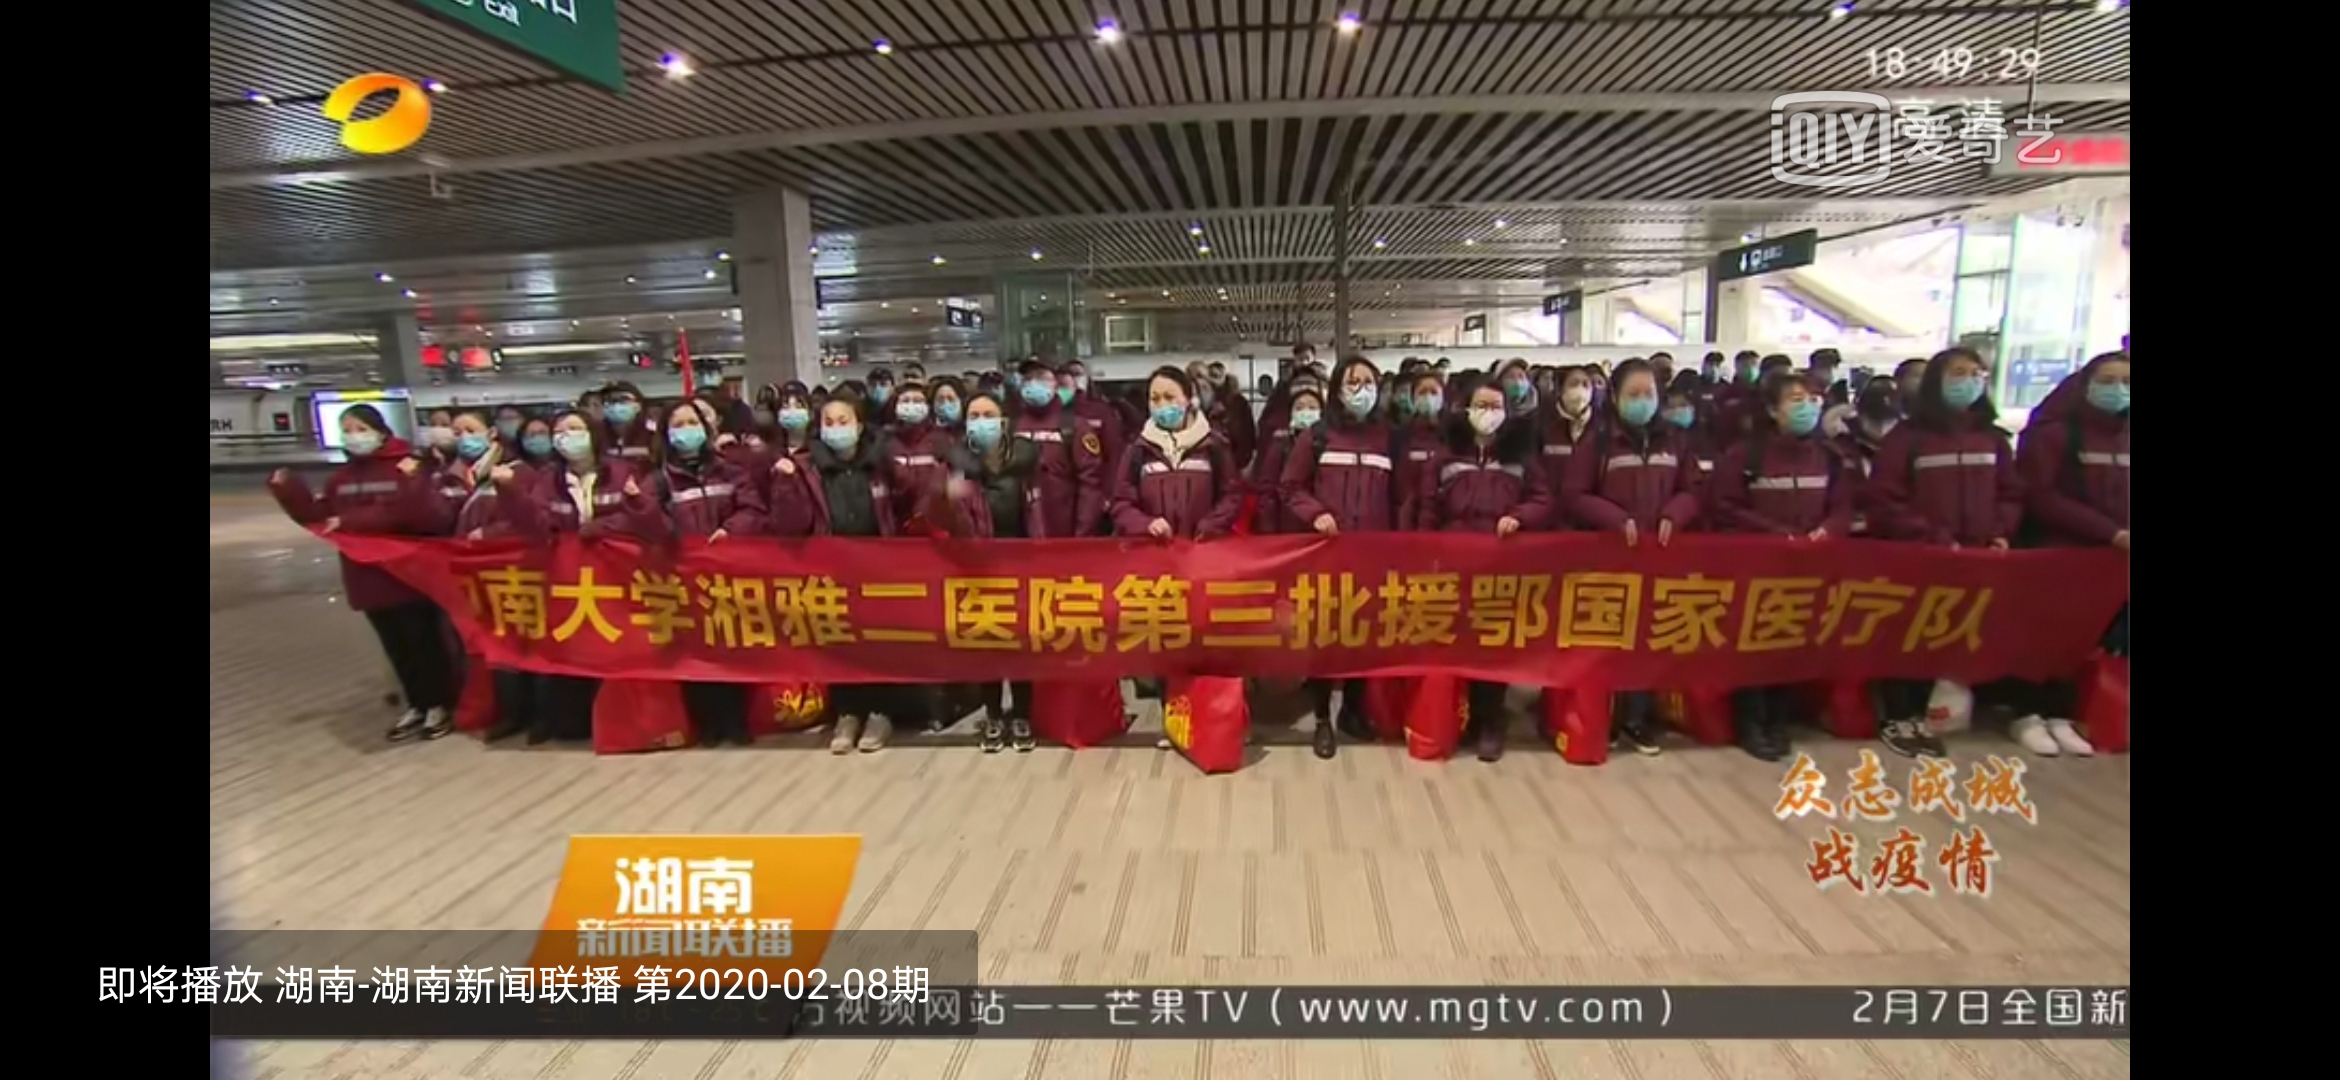correctlyWear: (2083, 364, 2130, 421), (1940, 364, 1989, 413), (1771, 392, 1827, 436), (1612, 379, 1657, 431), (1336, 371, 1379, 421), (666, 413, 710, 455), (818, 412, 863, 453), (1148, 386, 1189, 430), (554, 422, 594, 467), (966, 406, 1004, 450), (339, 422, 385, 459), (454, 421, 497, 459), (1465, 395, 1506, 436), (1018, 373, 1057, 409), (603, 392, 643, 427), (1560, 376, 1592, 418), (1659, 397, 1700, 430), (1501, 367, 1533, 404), (1288, 398, 1321, 431), (894, 394, 927, 427), (778, 401, 812, 433), (1415, 382, 1445, 418), (933, 391, 964, 424), (519, 424, 549, 458), (427, 416, 454, 452), (866, 380, 892, 404), (1739, 358, 1758, 382)
